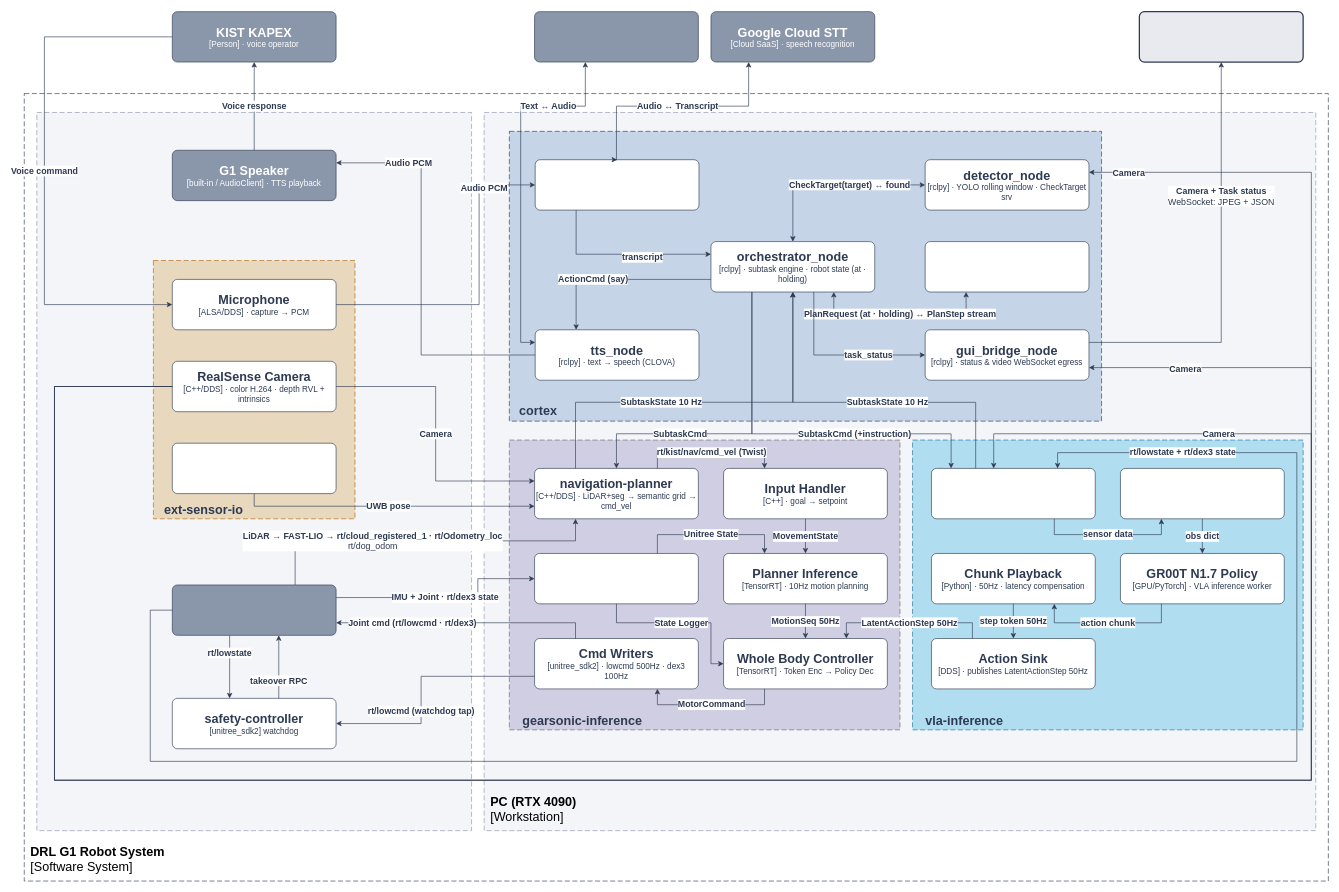
Some shapes in this 1339 by 892 pixel diagram are drawn without their labels. The box of each missing label's shape, as (x1, y1, x2, y2) in pixels:
cortex-gui [Browser/JS] · display renderer: (1138, 11, 1303, 62)
IO Sources [Python] · camera · state · operator: (931, 468, 1095, 519)
llm_node [rclpy] · utterance → subtask NDJSON · 2-stage validator: (925, 241, 1089, 292)
Locomotion Controller [G1 built-in SDK] · low-level gait & balance: (172, 584, 336, 635)
Naver CLOVA TTS [Cloud SaaS] · speech synthesis: (534, 11, 698, 62)
Observation Builder [Python] · observation assembly: (1120, 468, 1284, 519)
stt_node [rclpy] · speech → transcript: (535, 159, 699, 210)
Unitree G1 (NX) [Onboard]: (36, 112, 472, 831)
Unitree State Reader [unitree_sdk2] · lowstate · dex3 subscribe: (534, 553, 698, 604)
UWB [Decawave DWM1001] · position tracking: (172, 443, 336, 494)
